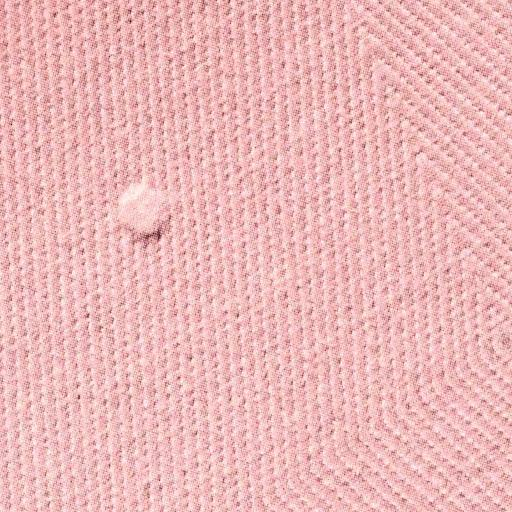knot: (110, 176, 179, 246)
